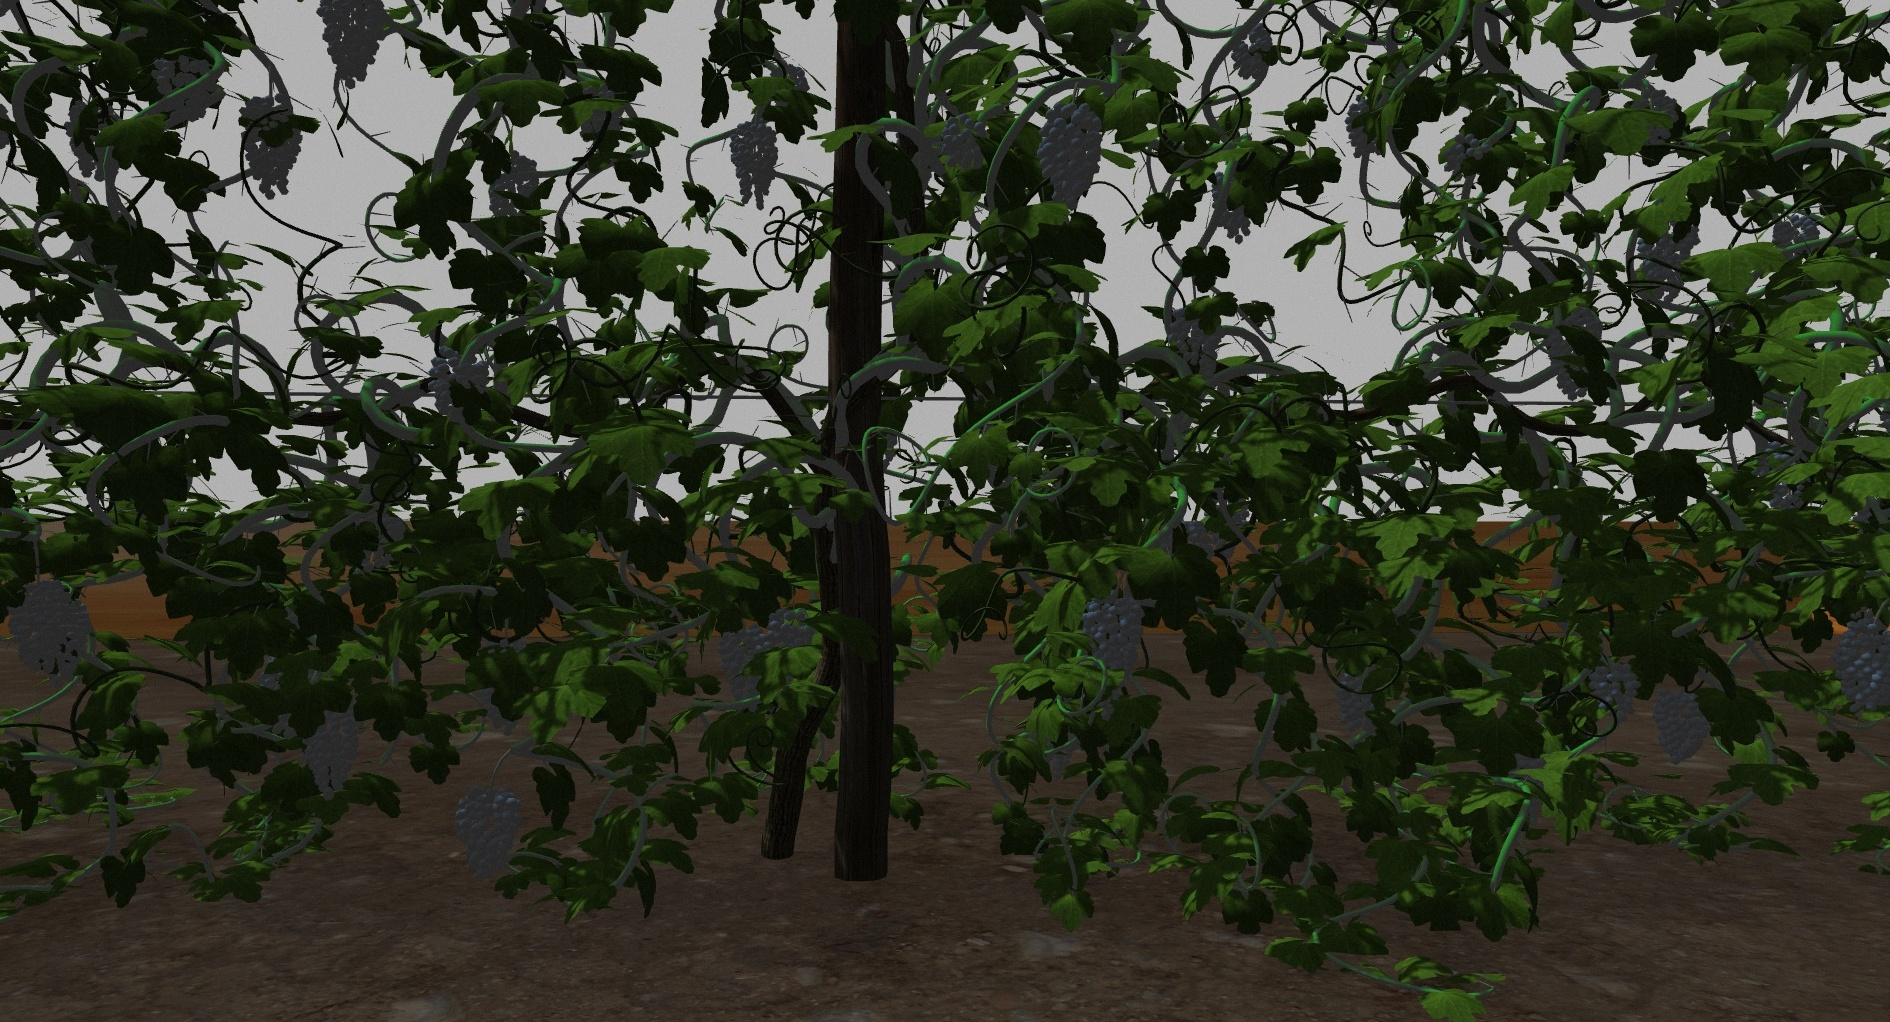grape: (8, 581, 91, 678), (237, 93, 305, 199), (315, 3, 394, 93), (1038, 101, 1104, 209), (453, 785, 522, 884), (148, 53, 232, 128), (425, 342, 495, 433), (301, 709, 362, 807), (1631, 223, 1700, 305), (1835, 610, 1885, 720), (1085, 587, 1144, 677), (1545, 310, 1604, 396), (1170, 295, 1223, 383), (719, 629, 771, 717), (731, 120, 781, 210), (1651, 686, 1708, 766), (484, 150, 544, 224), (571, 77, 625, 156), (1591, 658, 1641, 726), (1330, 672, 1380, 739), (1630, 89, 1681, 150), (768, 605, 822, 660), (1772, 213, 1825, 267), (944, 113, 992, 172), (1211, 174, 1250, 244), (1229, 26, 1277, 83), (1438, 128, 1489, 179), (1345, 94, 1380, 159)
